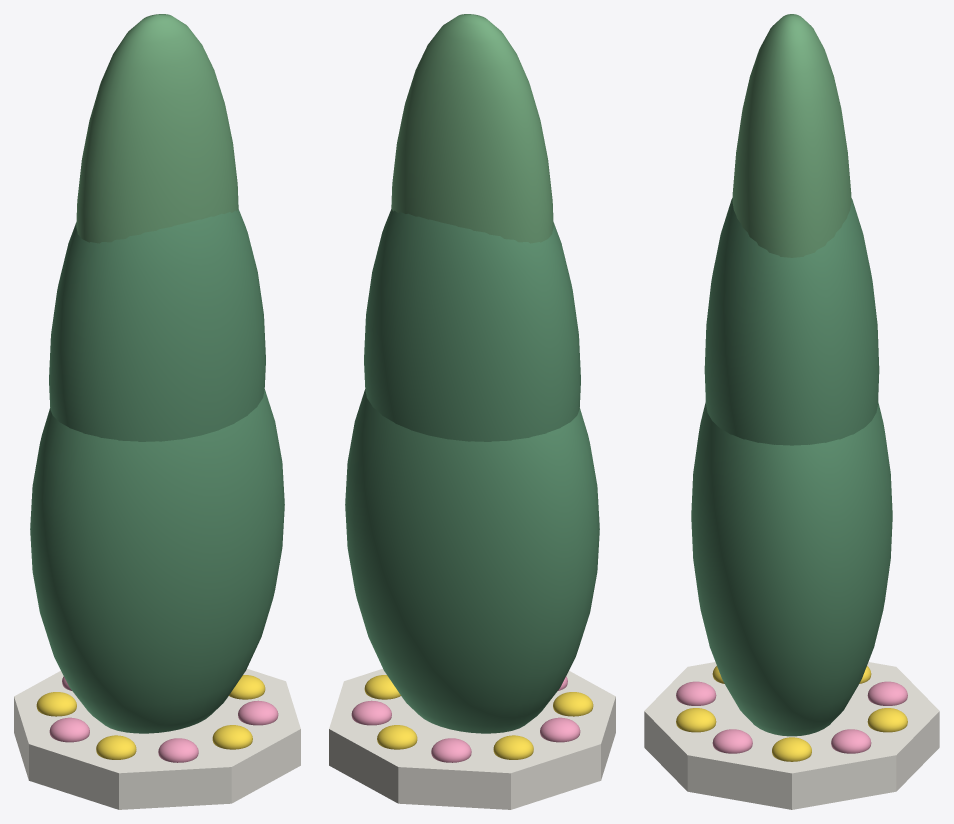
The model's file is flora_cypress_tree.glb.
3 renders of one model, left to right at view 1: azimuth 30°, elevation 25°; view 2: azimuth 150°, elevation 25°; view 3: azimuth 270°, elevation 25°, orthographic.
Parts seen in each view (by area): view 1: Sphere, Sphere.001, Sphere.002, Cylinder, Sphere.011, Sphere.010, Sphere.009, Sphere.007, Sphere.008, Sphere.012, Sphere.003; view 2: Sphere, Sphere.001, Sphere.002, Cylinder, Sphere.005, Sphere.006, Sphere.007, Sphere.008, Sphere.009, Sphere.004, Sphere.003; view 3: Sphere, Sphere.001, Cylinder, Sphere.002, Sphere.004, Sphere.012, Sphere.005, Sphere.006, Sphere.010, Sphere.011, Sphere.003.
Boxes of the visible parts, box(x1,y1,x2,y2) form: Sphere: box(30, 389, 284, 733); Sphere.001: box(49, 209, 265, 441); Sphere.002: box(76, 14, 238, 243); Cylinder: box(14, 668, 300, 809); Sphere.011: box(212, 725, 252, 749); Sphere.010: box(158, 738, 198, 762); Sphere.009: box(96, 735, 136, 759); Sphere.007: box(36, 692, 76, 716); Sphere.008: box(49, 717, 89, 742); Sphere.012: box(238, 700, 278, 725); Sphere.003: box(229, 675, 265, 699); Sphere: box(345, 389, 599, 733); Sphere.001: box(364, 209, 580, 441); Sphere.002: box(391, 14, 553, 243); Cylinder: box(329, 668, 615, 809); Sphere.005: box(377, 725, 417, 749); Sphere.006: box(431, 738, 471, 762); Sphere.007: box(493, 735, 533, 759); Sphere.008: box(540, 717, 580, 742); Sphere.009: box(553, 692, 593, 716); Sphere.004: box(351, 700, 391, 725); Sphere.003: box(364, 675, 400, 699); Sphere: box(691, 401, 892, 736); Sphere.001: box(704, 198, 879, 445); Cylinder: box(644, 662, 939, 809); Sphere.002: box(732, 14, 851, 257); Sphere.004: box(831, 729, 871, 753); Sphere.012: box(712, 729, 752, 753); Sphere.005: box(867, 708, 907, 732); Sphere.006: box(867, 681, 907, 705); Sphere.010: box(676, 681, 716, 705); Sphere.011: box(676, 708, 716, 732); Sphere.003: box(772, 737, 811, 761).
Size of the model in its own units: 2.2 by 6 by 2.2.
